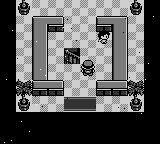main: (81, 61, 95, 75)
no-caminable: (1, 0, 160, 143), (112, 17, 127, 80), (32, 17, 47, 79), (129, 81, 144, 112), (16, 81, 31, 112), (32, 81, 64, 95), (96, 81, 127, 95), (96, 17, 113, 31), (129, 0, 144, 15), (48, 17, 63, 31), (17, 0, 30, 15)
npc: (98, 30, 110, 43)
puerta: (61, 97, 99, 111), (64, 48, 80, 64)
